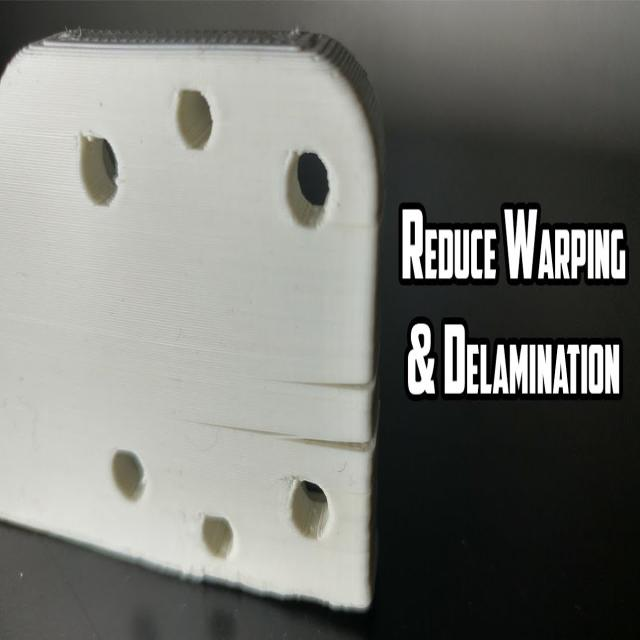Warping: (240, 424, 383, 465), (290, 371, 381, 406)
